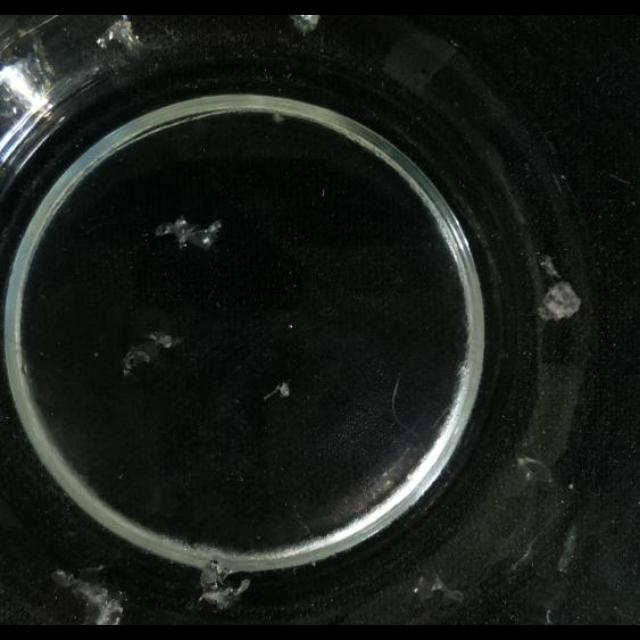Fibre: (50, 569, 124, 625), (534, 260, 582, 322), (196, 558, 248, 612), (122, 330, 178, 376), (414, 573, 464, 607), (99, 18, 141, 52), (539, 256, 561, 280), (264, 380, 290, 400), (272, 112, 286, 124), (546, 608, 556, 624)
Fragment: (154, 214, 222, 252)
microbeads: (320, 188, 326, 198)
